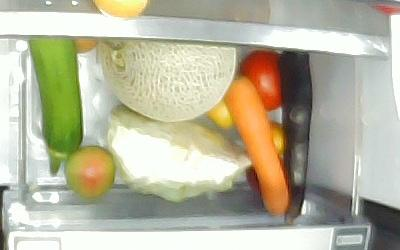cabbage: (108, 103, 253, 205)
carrot: (218, 73, 289, 216)
eggplant: (276, 51, 313, 219)
melon: (98, 39, 236, 123)
tangerine: (206, 97, 235, 132)
tomato: (241, 50, 286, 111), (65, 147, 114, 197)
zucchini: (27, 38, 84, 174)
